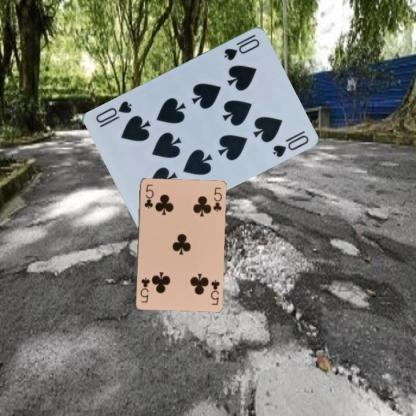10s: (221, 32, 261, 62)
5c: (141, 182, 155, 210), (208, 277, 221, 306)
